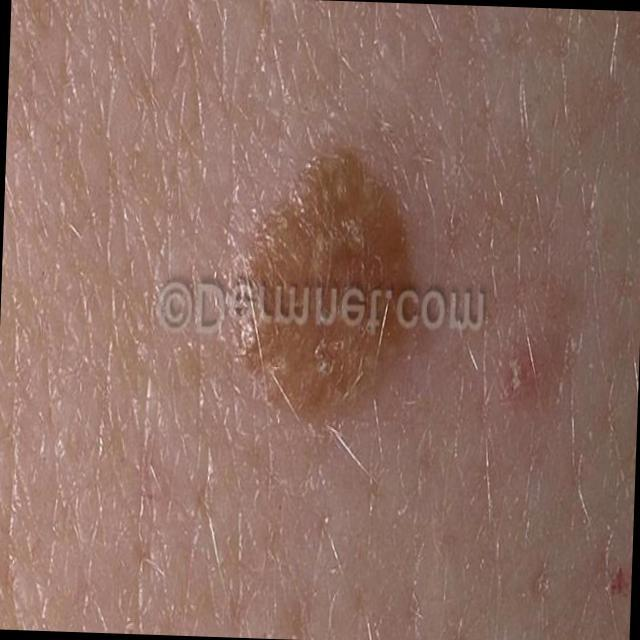Eczema: (231, 152, 431, 429)
